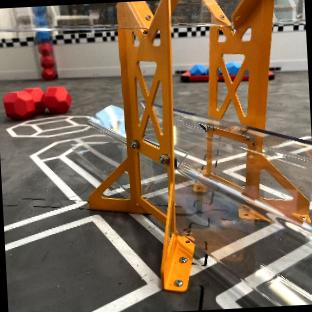V5_RED: (2, 85, 71, 120)
